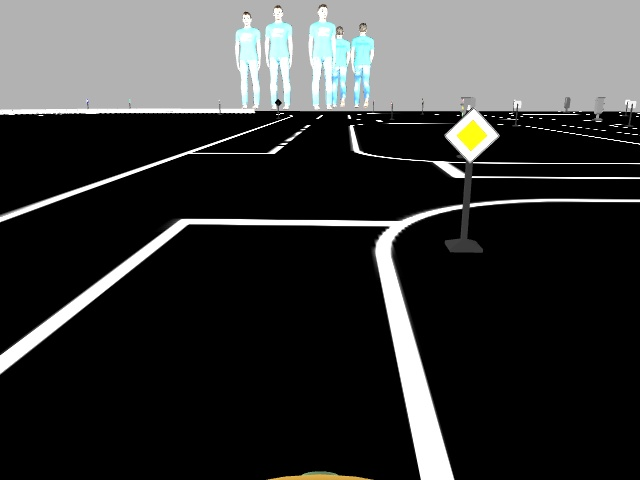Priority: (440, 107, 501, 164)
